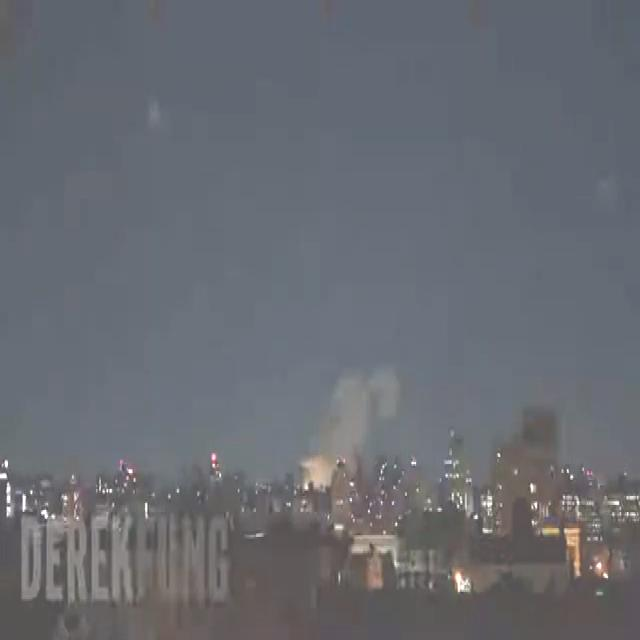smoke: (300, 366, 399, 485)
